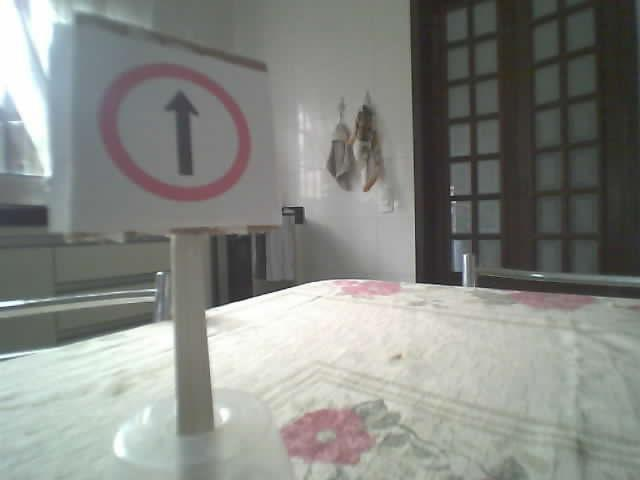R-26_frente: (97, 63, 248, 202)
